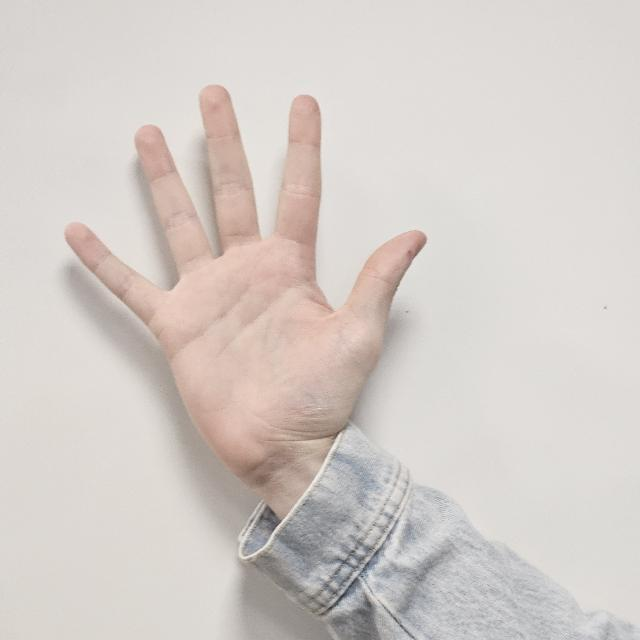X: (65, 83, 428, 461)
